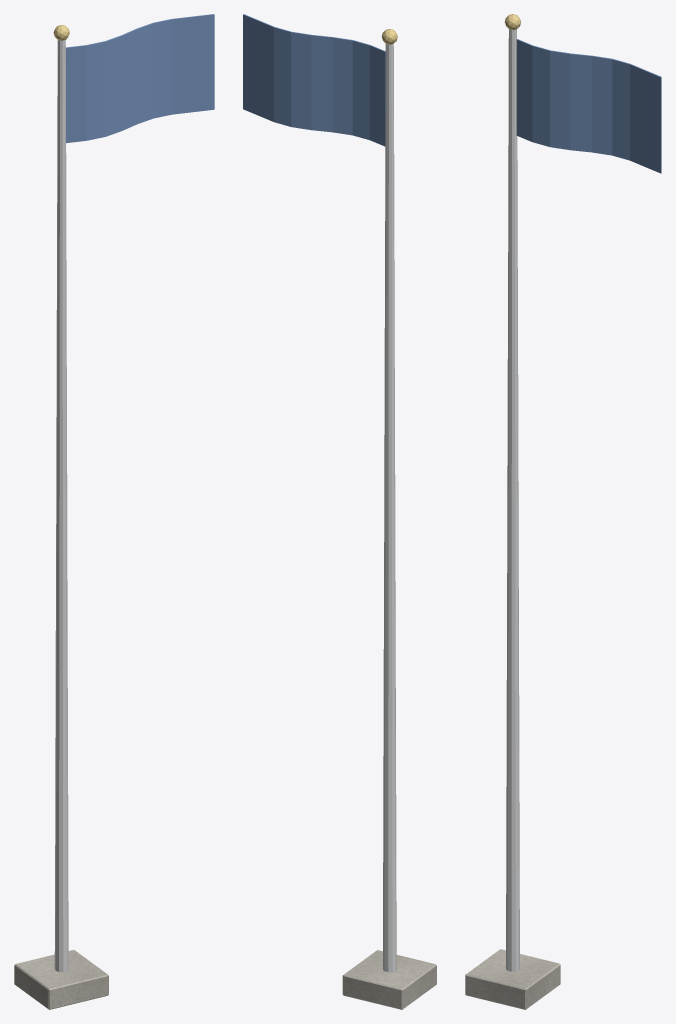
Rendered from flagpole_b.glb.
3 renders of one model, left to right at view 1: azimuth 30°, elevation 25°; view 2: azimuth 150°, elevation 25°; view 3: azimuth 330°, elevation 25°, orthographic.
Parts seen in each view (by area): view 1: flagpole_b_flag_b, flagpole_b_steel, flagpole_b_concrete; view 2: flagpole_b_flag_b, flagpole_b_steel, flagpole_b_concrete; view 3: flagpole_b_flag_b, flagpole_b_steel, flagpole_b_concrete.
Boxes of the visible parts, bbox=[...] form: flagpole_b_flag_b: bbox=[66, 14, 214, 143]; flagpole_b_steel: bbox=[54, 40, 68, 971]; flagpole_b_concrete: bbox=[14, 950, 108, 1009]; flagpole_b_flag_b: bbox=[243, 14, 385, 146]; flagpole_b_steel: bbox=[383, 44, 396, 972]; flagpole_b_concrete: bbox=[342, 950, 436, 1009]; flagpole_b_flag_b: bbox=[516, 39, 661, 173]; flagpole_b_steel: bbox=[506, 29, 519, 971]; flagpole_b_concrete: bbox=[465, 949, 560, 1009].
Bounding box in the file's own units: 1.78 × 9.12 × 0.6.
4 materials, 1 textured.
